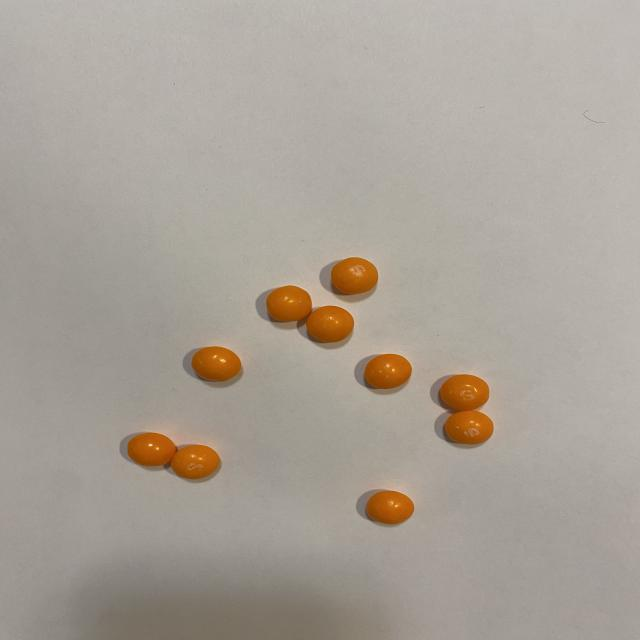smartie: (191, 346, 241, 382), (440, 375, 490, 411), (331, 257, 378, 294), (306, 306, 354, 342), (170, 445, 219, 480), (445, 411, 494, 445), (265, 286, 311, 322), (365, 354, 412, 389), (366, 491, 414, 525), (126, 433, 175, 466)
